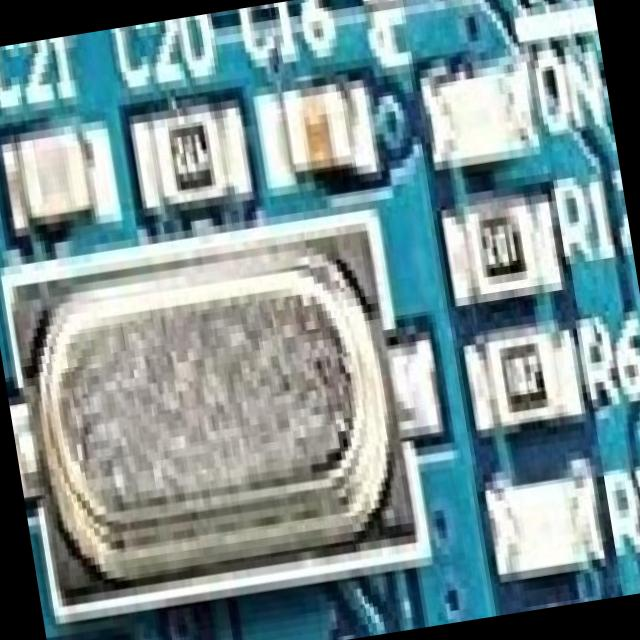LED: (487, 463, 612, 597), (426, 68, 531, 164)
capacitor: (9, 112, 107, 234), (270, 80, 357, 180)
resistor: (468, 324, 576, 437), (451, 192, 552, 308), (143, 100, 238, 206)
